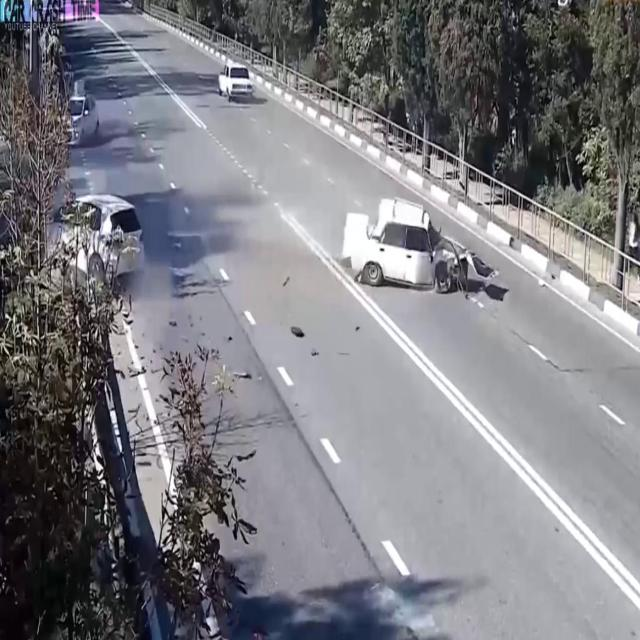accident: (332, 185, 504, 315)
